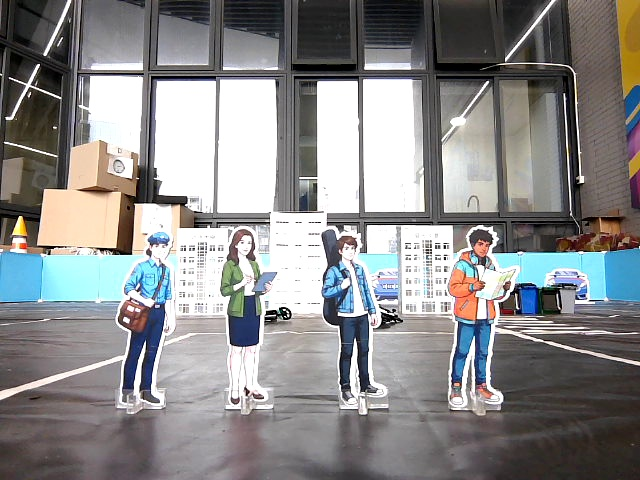community_person: (310, 222, 401, 422), (441, 217, 522, 423), (108, 225, 187, 422), (212, 222, 284, 424)
